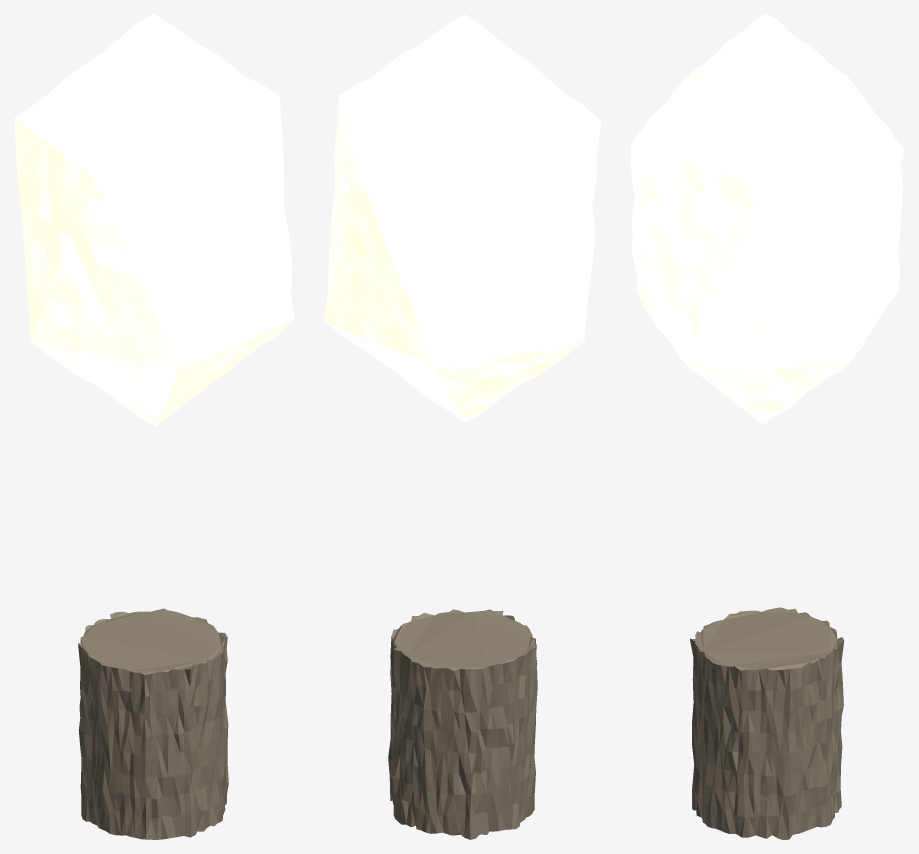
File: SM_Treasure.fbx
The picture shows the model from 3 angles, left to right: view 1: azimuth 30°, elevation 25°; view 2: azimuth 150°, elevation 25°; view 3: azimuth 270°, elevation 25°; orthographic projection.
Parts seen in each view (by area): view 1: SM_Treasure; view 2: SM_Treasure; view 3: SM_Treasure.
Part boxes in pixels (box(x1,y1,x2,y2)): SM_Treasure: box(14, 14, 294, 839); SM_Treasure: box(323, 14, 601, 839); SM_Treasure: box(630, 14, 904, 839).
Bounding box in the file's own units: 0.5433 × 1.67 × 0.5211.
